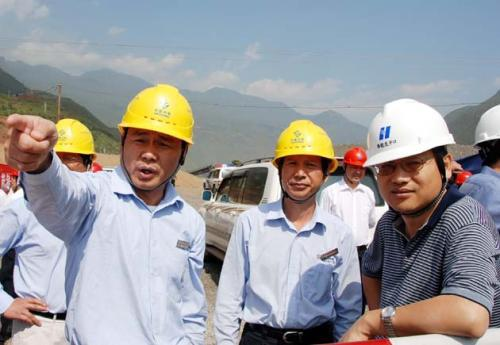helmet: (119, 81, 205, 194), (375, 99, 458, 211), (265, 115, 330, 202), (47, 113, 94, 178), (471, 100, 499, 173), (341, 147, 372, 182)
